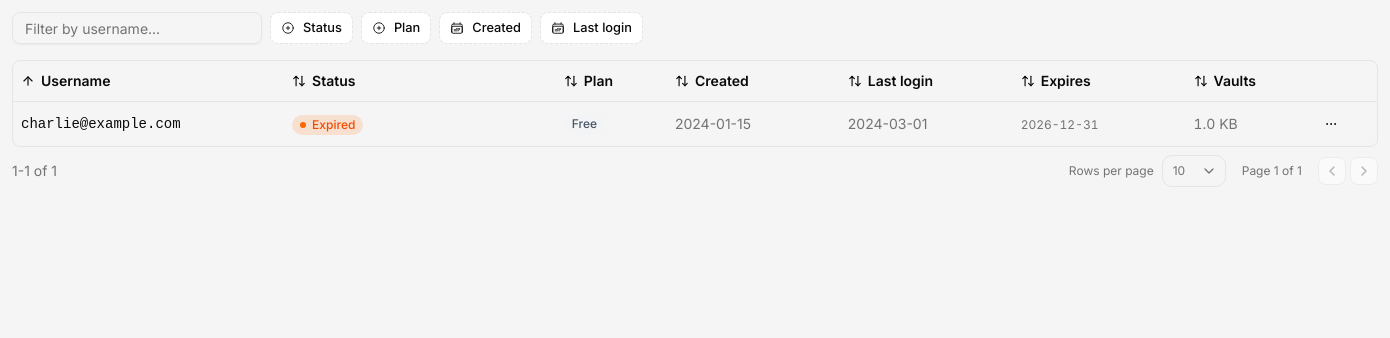
Test case: UserList › shows Reactivate option only for expired users
Step 1. Click the button named "Actions for charlie@example.com" → (1331, 124), box left=1317, top=110, right=1345, bottom=138
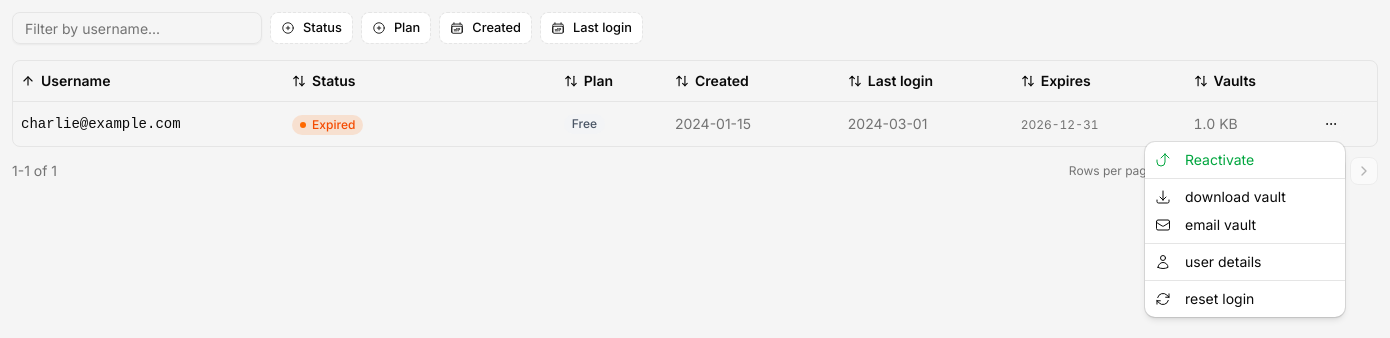
Expected: the menu item "Reactivate" is shown, left=1155, top=151, right=1254, bottom=168
